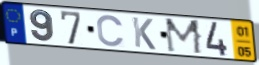4: (205, 21, 230, 58)
7: (59, 9, 82, 46)
9: (28, 8, 56, 43)
C: (96, 14, 127, 48)
K: (131, 15, 157, 51)
M: (163, 17, 204, 56)
